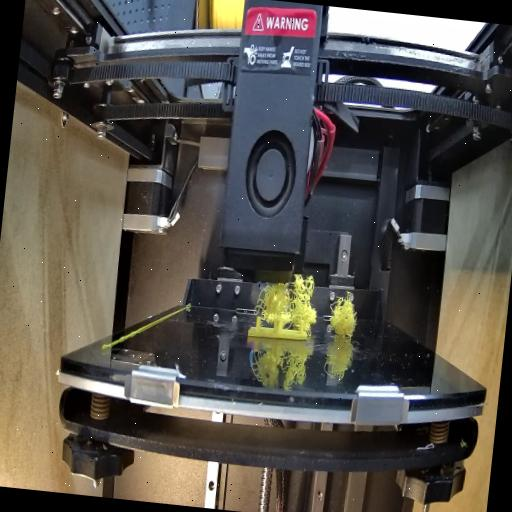spaghetti: (256, 270, 323, 326), (323, 293, 362, 339)
